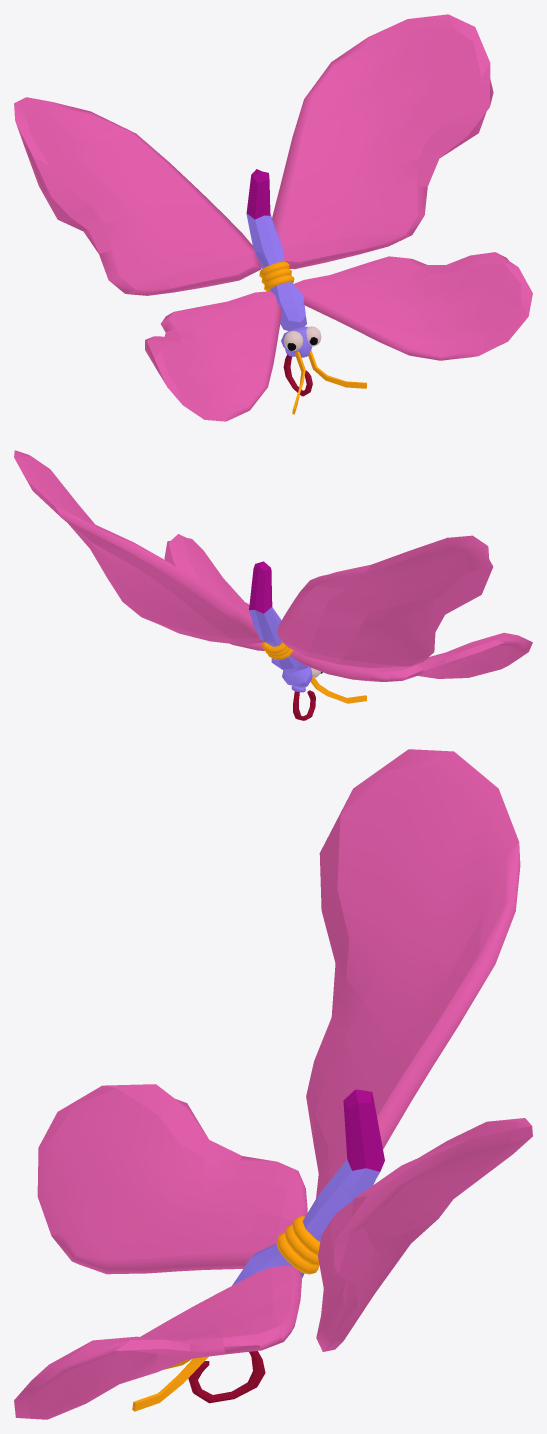
File: butterfly.glb
3 renders of one model, top to bottom at view 1: azimuth 30°, elevation 25°; view 2: azimuth 150°, elevation 25°; view 3: azimuth 270°, elevation 25°, orthographic. The views are drawn at different scales.
Visible parts, largest first — view 1: Cube 26, Cube 26.001, Cube 24, Cube 25, Cube 1, Cube 16; view 2: Cube 26.001, Cube 26, Cube 25, Cube 24, Cube 1, Cube 16, Cube 17, Cube 27, Cube 20; view 3: Cube 26.001, Cube 25, Cube 26, Cube 24, Cube 1, Cube 16, Cube 27, Cube 19.
Boxes of the visible parts, x1=… form: Cube 26: x1=272, y1=14, x2=493, y2=269; Cube 26.001: x1=14, y1=97, x2=261, y2=295; Cube 24: x1=294, y1=252, x2=532, y2=360; Cube 25: x1=145, y1=291, x2=282, y2=421; Cube 1: x1=246, y1=214, x2=306, y2=330; Cube 16: x1=246, y1=169, x2=270, y2=219; Cube 26.001: x1=277, y1=535, x2=493, y2=667; Cube 26: x1=14, y1=450, x2=264, y2=645; Cube 25: x1=291, y1=632, x2=532, y2=681; Cube 24: x1=164, y1=534, x2=264, y2=650; Cube 1: x1=249, y1=607, x2=307, y2=673; Cube 16: x1=249, y1=561, x2=272, y2=613; Cube 17: x1=282, y1=666, x2=312, y2=687; Cube 27: x1=293, y1=690, x2=315, y2=720; Cube 20: x1=310, y1=678, x2=366, y2=703; Cube 26.001: x1=306, y1=749, x2=520, y2=1198; Cube 25: x1=37, y1=1084, x2=307, y2=1274; Cube 26: x1=316, y1=1118, x2=532, y2=1351; Cube 24: x1=14, y1=1265, x2=302, y2=1419; Cube 1: x1=232, y1=1159, x2=379, y2=1285; Cube 16: x1=343, y1=1089, x2=384, y2=1171; Cube 27: x1=188, y1=1351, x2=265, y2=1403; Cube 19: x1=132, y1=1356, x2=208, y2=1411.
Bounding box in the file's own units: 7.21 × 4.3 × 4.23.
